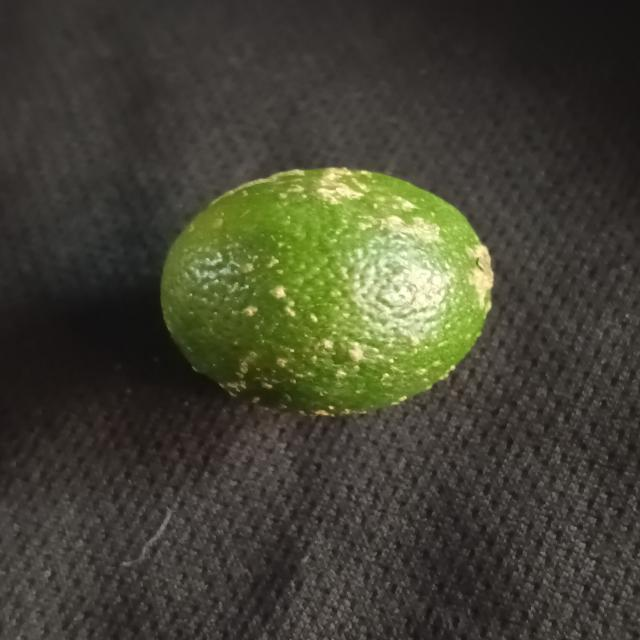scab: (152, 165, 505, 424)
